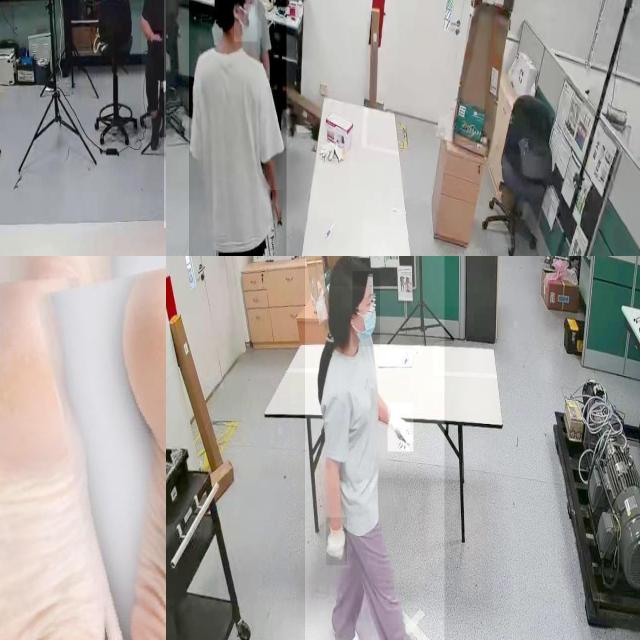Barefoots: (56, 257, 166, 640), (0, 277, 116, 640)
face_mask: (352, 271, 380, 347), (234, 0, 257, 41)
hand_glove: (388, 402, 413, 452), (326, 518, 348, 566)
hand_noglove: (270, 190, 284, 229), (149, 31, 163, 41)
head_nohelmet: (330, 256, 369, 287)
person: (305, 256, 445, 640), (189, 0, 287, 256), (141, 0, 166, 150)
shoes: (331, 610, 369, 640), (148, 110, 163, 152)
